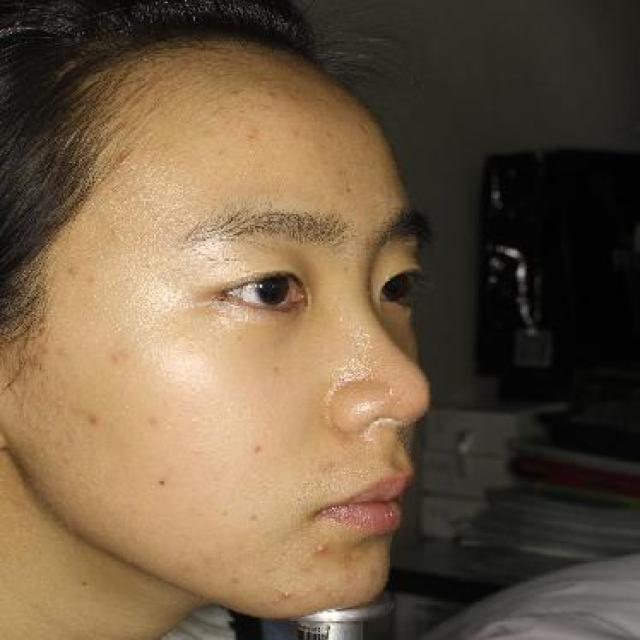pustules: (308, 538, 330, 558), (278, 588, 300, 602)
